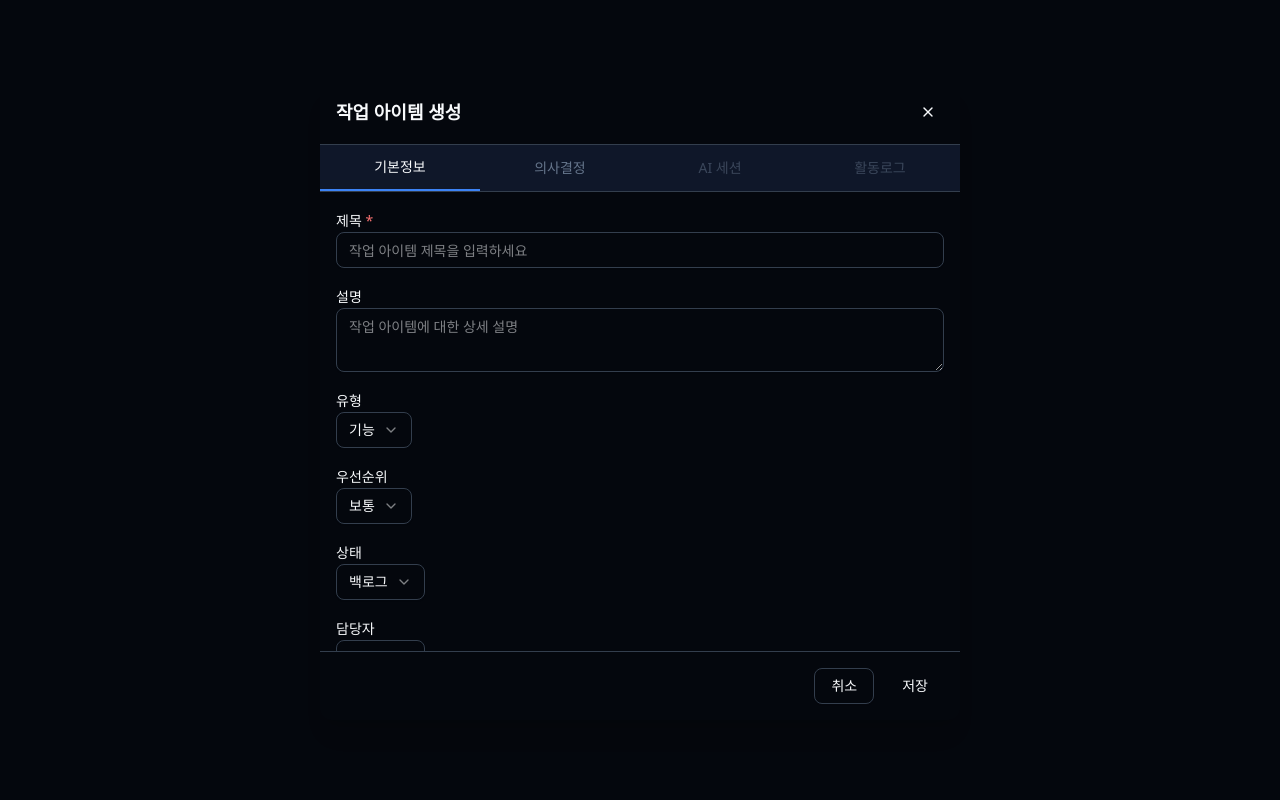
Test: WorkItemModal › should display decision fields when decision tab is clicked
This screenshot has width=1280, height=800.
Click the tab "의사결정" at (560, 168), box x1=480 y1=145 x2=640 y2=191
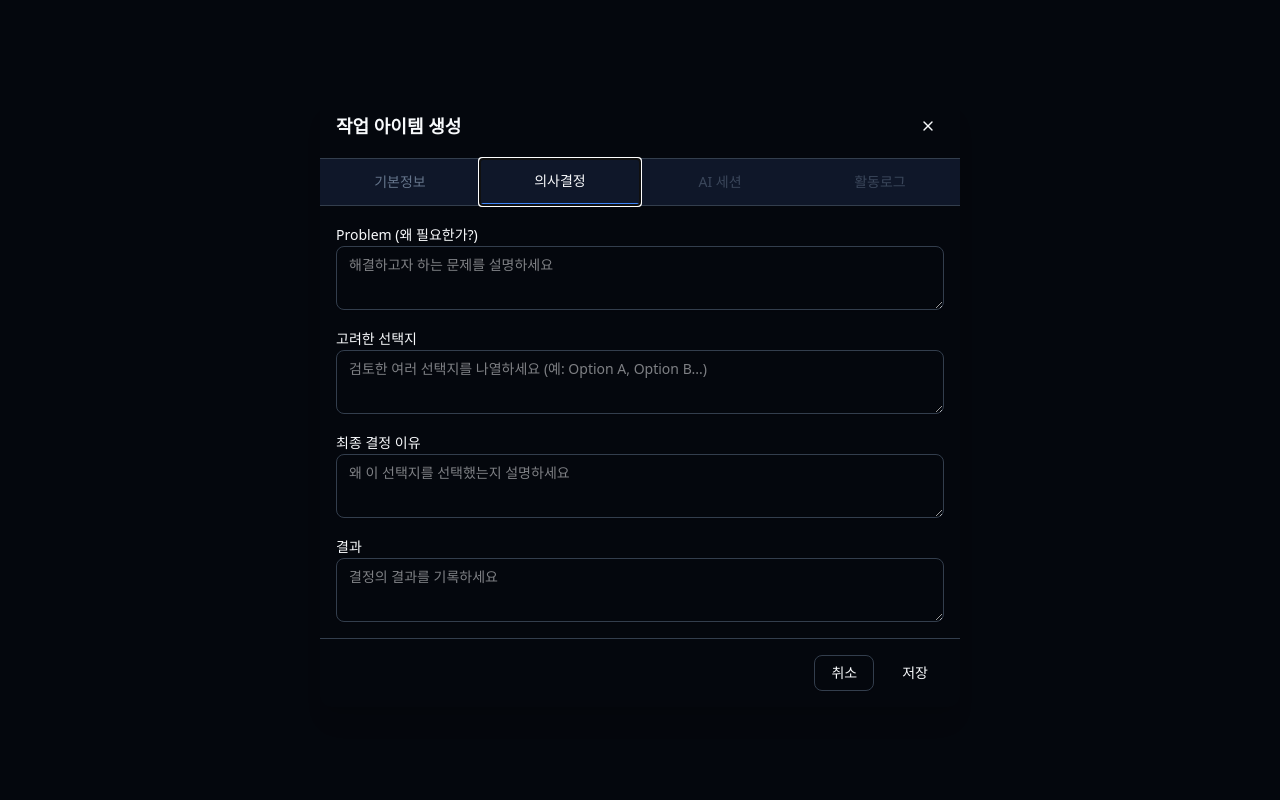
expect the text box labelled "Problem (왜 필요한가?)" is shown: met, box x1=336 y1=246 x2=944 y2=310
expect the text box labelled "고려한 선택지" is shown: met, box x1=336 y1=350 x2=944 y2=414
expect the text box labelled "최종 결정 이유" is shown: met, box x1=336 y1=454 x2=944 y2=518
